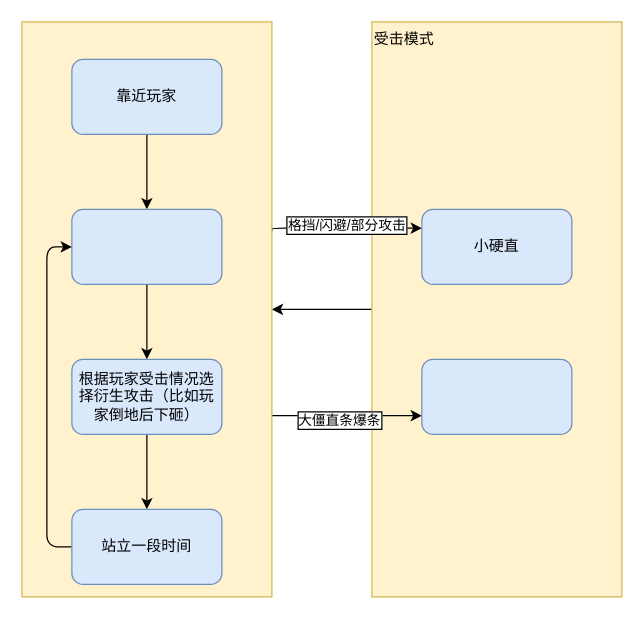
Some shapes in this 644 by 619 pixel diagram are drawn without their labels. Each missing label, with the box of its shape:
大硬直: (421, 358, 572, 434)
进攻模式: (21, 21, 272, 597)
选择一种连段: (71, 208, 222, 284)
